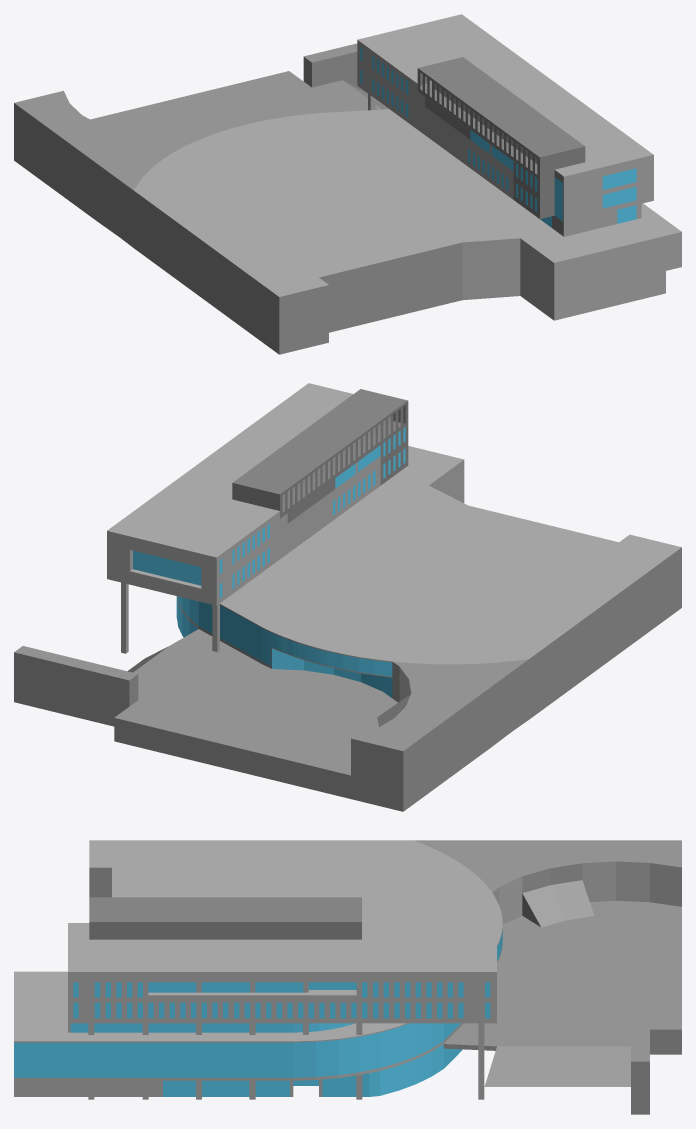
File: KWSquare.glb
3 renders of one model, top to bottom at view 1: azimuth 30°, elevation 25°; view 2: azimuth 150°, elevation 25°; view 3: azimuth 270°, elevation 25°, orthographic. The views are drawn at different scales.
Visible parts, largest first — view 1: White, Grey, Dark, Window; view 2: White, Grey, Dark, Window; view 3: White, Grey, Window, Dark.
Part boxes in pixels (bbox=[...]): White: bbox=[134, 14, 681, 320]; Grey: bbox=[14, 43, 462, 354]; Dark: bbox=[417, 57, 585, 235]; Window: bbox=[360, 46, 636, 227]; White: bbox=[107, 383, 681, 702]; Grey: bbox=[14, 547, 681, 811]; Dark: bbox=[232, 389, 408, 523]; Window: bbox=[133, 427, 405, 697]; White: bbox=[14, 840, 681, 1099]; Grey: bbox=[89, 840, 681, 1114]; Window: bbox=[14, 929, 502, 1096]; Dark: bbox=[89, 897, 361, 939].
Bounding box in the file's own units: 78.9 × 26.26 × 106.
